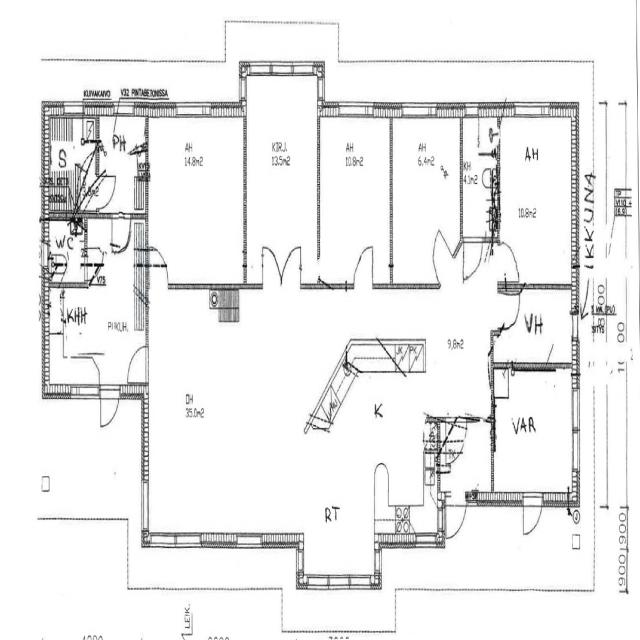door: (425, 230, 454, 286), (446, 492, 466, 548), (524, 492, 542, 544), (446, 417, 466, 463), (101, 385, 119, 435), (262, 247, 282, 289), (497, 244, 519, 282), (112, 214, 131, 256), (354, 248, 373, 290), (497, 292, 519, 328), (150, 248, 168, 290), (282, 247, 300, 289), (464, 237, 482, 279), (128, 347, 148, 382), (96, 176, 116, 209), (84, 248, 104, 280)
